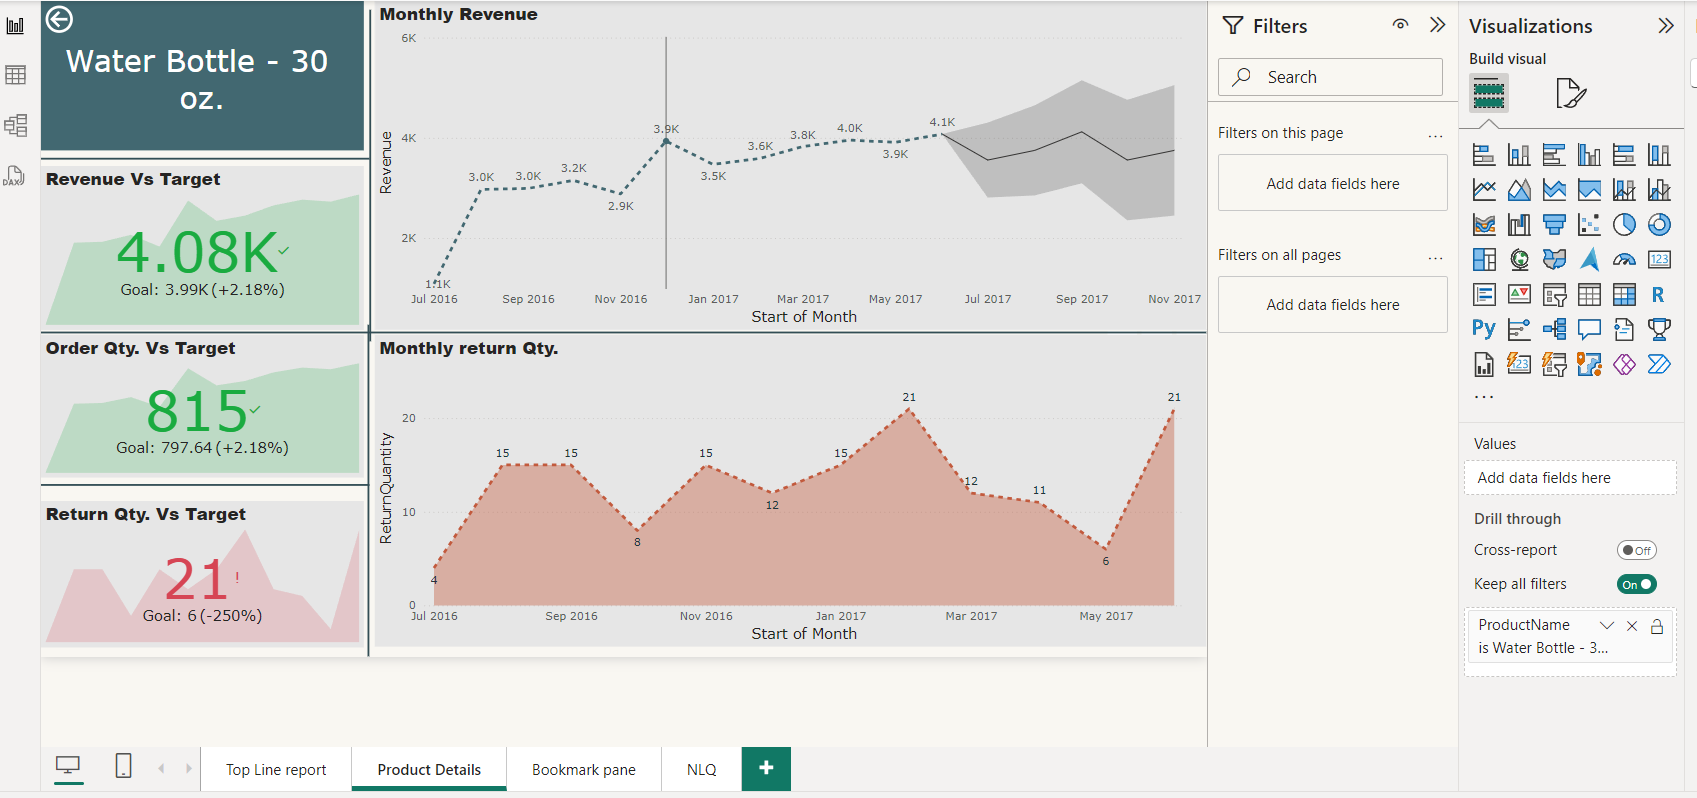

The page's visual inventory and layout, read from the dashboard file:
{"tool":"powerbi","page":{"name":"Product Details","canvas":[1280,720],"ordinal":1},"visuals":[{"type":"card","fields":{"Values":["Min(d-Products.ProductName)"]},"box":[0,0,354.6,164],"z":0},{"type":"lineChart","title":" Monthly Revenue","fields":{"Y":["All Measures.Revenue"],"Category":["d-Calendar.Start of Month"]},"box":[366.6,0,913,360.6],"z":1000},{"type":"shape","box":[0,360.6,1279.6,6],"z":2000},{"type":"areaChart","title":"Monthly return Qty.","fields":{"Category":["d-Calendar.Start of Month"],"Y":["Sum(f-Returns.ReturnQuantity)"]},"box":[366.6,366.6,913,342.5],"z":3000},{"type":"shape","box":[354.6,355.8,10.9,364.2],"z":4000},{"type":"shape","box":[354.9,10,12.1,364.2],"z":5000},{"type":"kpi","title":"Revenue Vs Target ","fields":{"Indicator":["All Measures.Revenue"],"TrendLine":["d-Calendar.Start of Month"],"Goal":["All Measures.Target Revenue"]},"box":[0,180.9,354.6,179.7],"z":6000},{"type":"kpi","title":"Order Qty.  Vs Target ","fields":{"TrendLine":["d-Calendar.Start of Month"],"Goal":["All Measures.Target Order Qty"],"Indicator":["All Measures.Total Order Qty."]},"box":[0,366.6,354.6,156.8],"z":7000},{"type":"kpi","title":"Return Qty.  Vs Target ","fields":{"TrendLine":["d-Calendar.Start of Month"],"Indicator":["All Measures.Total return Qty."],"Goal":["All Measures.Previous Month Return Qty."]},"box":[0,548.7,354.6,160.4],"z":8000},{"type":"shape","box":[0,523.4,360.6,16.9],"z":9000},{"type":"shape","box":[0,164,360.6,16.9],"z":10000},{"type":"actionButton","box":[0,0,100,40],"z":11000}]}

Visuals, with their boxes on the page's 1280x720 design canvas (x1, y1, x2, y2). These are canvas units, not pixel positions in the 1697x798 screenshot, which may show the page scaled, cropped or inside an application window:
card - Min(d-Products.ProductName): 0,0,355,164
" Monthly Revenue" lineChart: 367,0,1280,361
shape: 0,361,1280,367
"Monthly return Qty." areaChart: 367,367,1280,709
shape: 355,356,366,720
shape: 355,10,367,374
"Revenue Vs Target " kpi: 0,181,355,361
"Order Qty.  Vs Target " kpi: 0,367,355,523
"Return Qty.  Vs Target " kpi: 0,549,355,709
shape: 0,523,361,540
shape: 0,164,361,181
actionButton: 0,0,100,40
